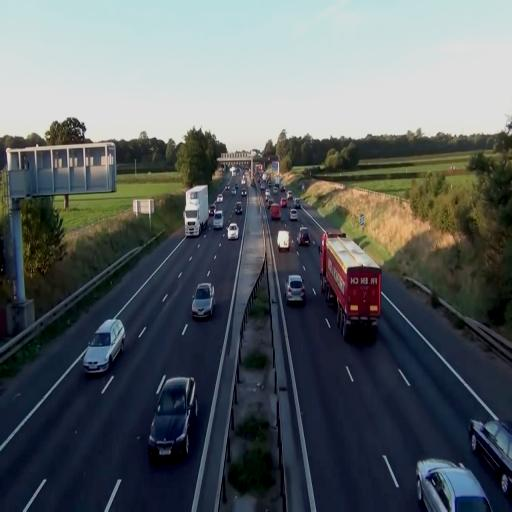vehicle: (320, 232, 382, 338), (148, 375, 196, 462), (416, 458, 492, 512), (468, 416, 512, 502), (469, 417, 512, 500), (83, 317, 125, 375), (184, 184, 209, 238), (192, 282, 214, 320), (286, 274, 306, 306), (276, 229, 292, 252), (297, 227, 311, 248), (226, 222, 238, 240), (270, 203, 282, 221), (213, 210, 223, 228)
